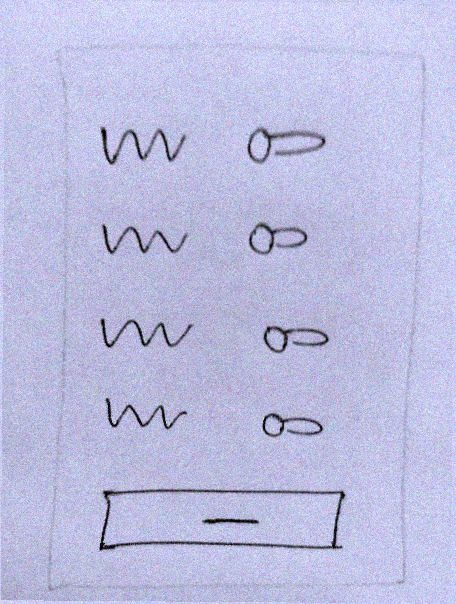button: (88, 476, 356, 558)
switch: (236, 113, 339, 172), (252, 309, 342, 363), (242, 212, 317, 275), (251, 400, 339, 452)
text: (87, 115, 205, 174), (94, 302, 204, 359), (92, 210, 203, 266), (93, 387, 205, 437)
